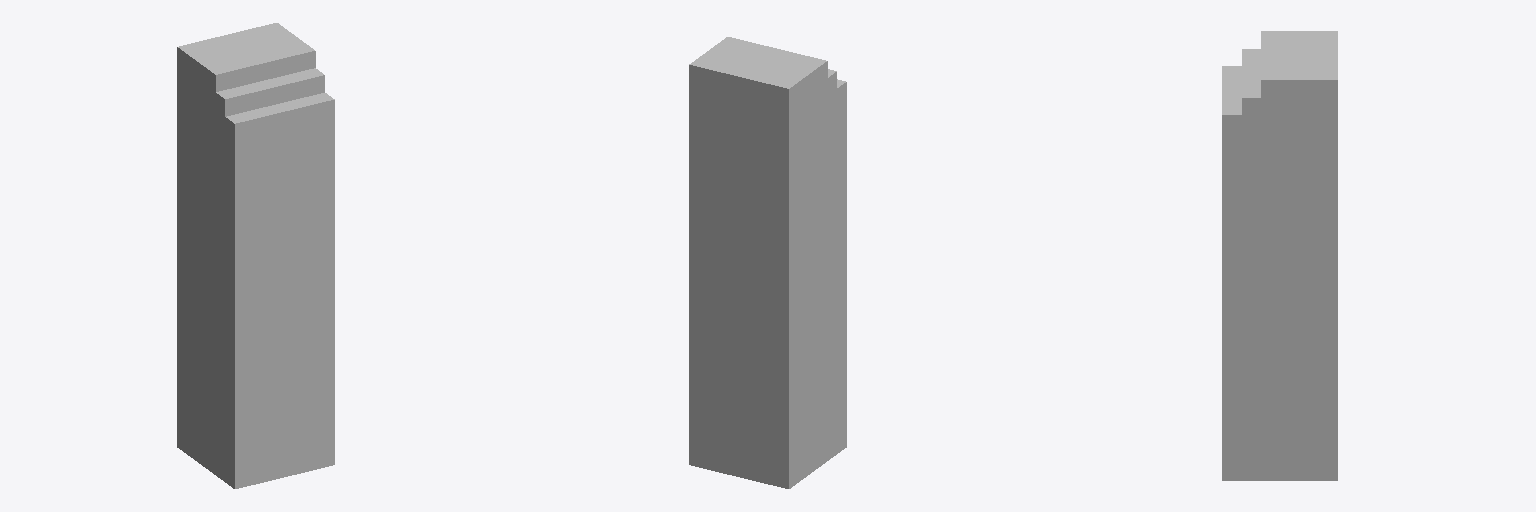
Rendered from locker.obj.
3 renders of one model, left to right at view 1: azimuth 30°, elevation 25°; view 2: azimuth 150°, elevation 25°; view 3: azimuth 270°, elevation 25°, orthographic.
Parts seen in each view (by area): view 1: object 1; view 2: object 1; view 3: object 1.
Boxes of the visible parts, x1=… form: object 1: x1=177, y1=23, x2=334, y2=488; object 1: x1=689, y1=37, x2=846, y2=488; object 1: x1=1222, y1=31, x2=1337, y2=480.
Bounding box in the file's own units: 0.6 × 2.3 × 0.6.